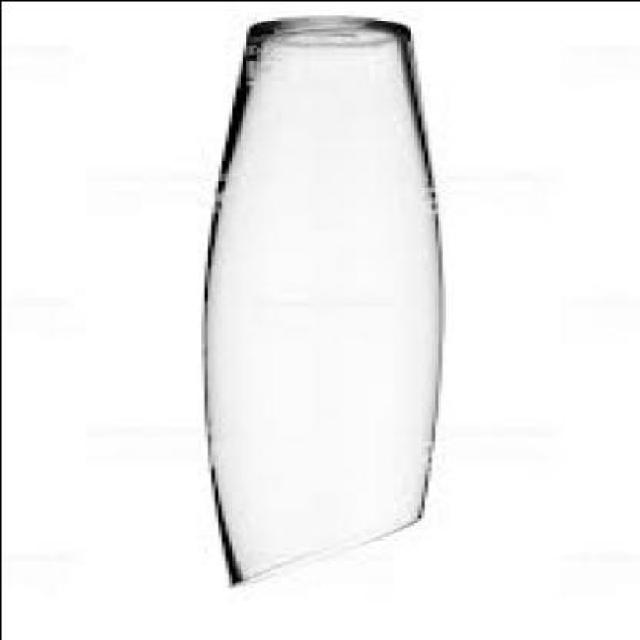glass: (197, 17, 441, 589)
